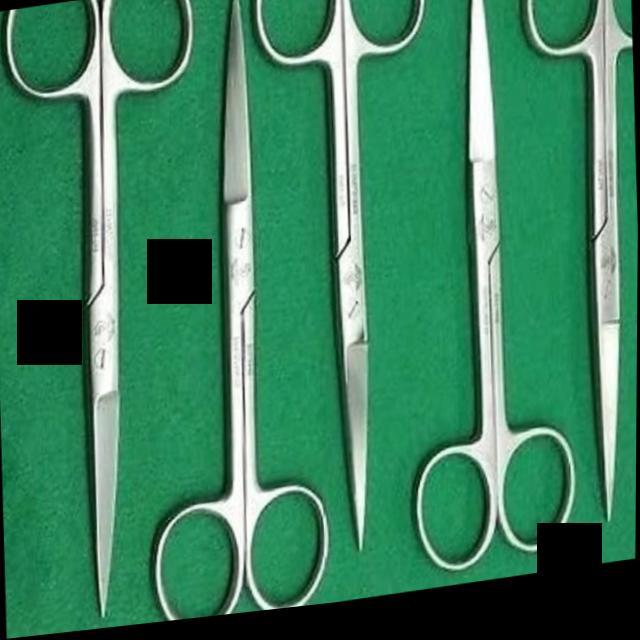Straight Mayo: (0, 0, 217, 635), (130, 0, 338, 628), (248, 0, 449, 580), (394, 0, 588, 588), (520, 0, 640, 548)
